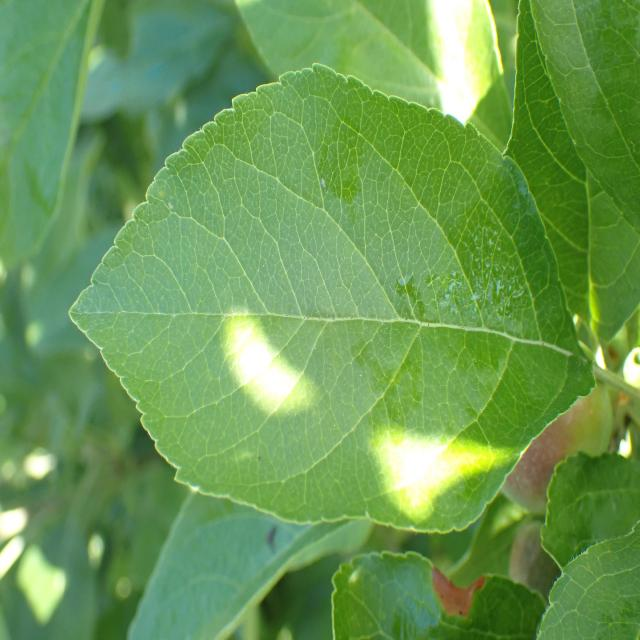healthy: (68, 61, 597, 533), (502, 0, 640, 346), (236, 0, 512, 156), (0, 0, 100, 274), (331, 548, 547, 640), (534, 522, 640, 640), (540, 450, 640, 570)
